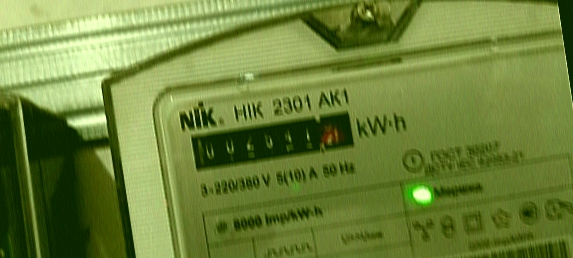0: (200, 137, 216, 160), (220, 132, 235, 155)
1: (299, 122, 312, 143)
2: (240, 130, 255, 152)
4: (280, 124, 295, 146)
5: (259, 127, 274, 150)
6: (322, 131, 335, 147)
screen: (178, 101, 366, 181)
